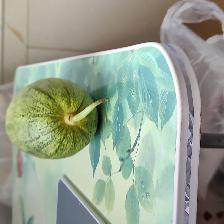gua: (6, 81, 93, 155)
